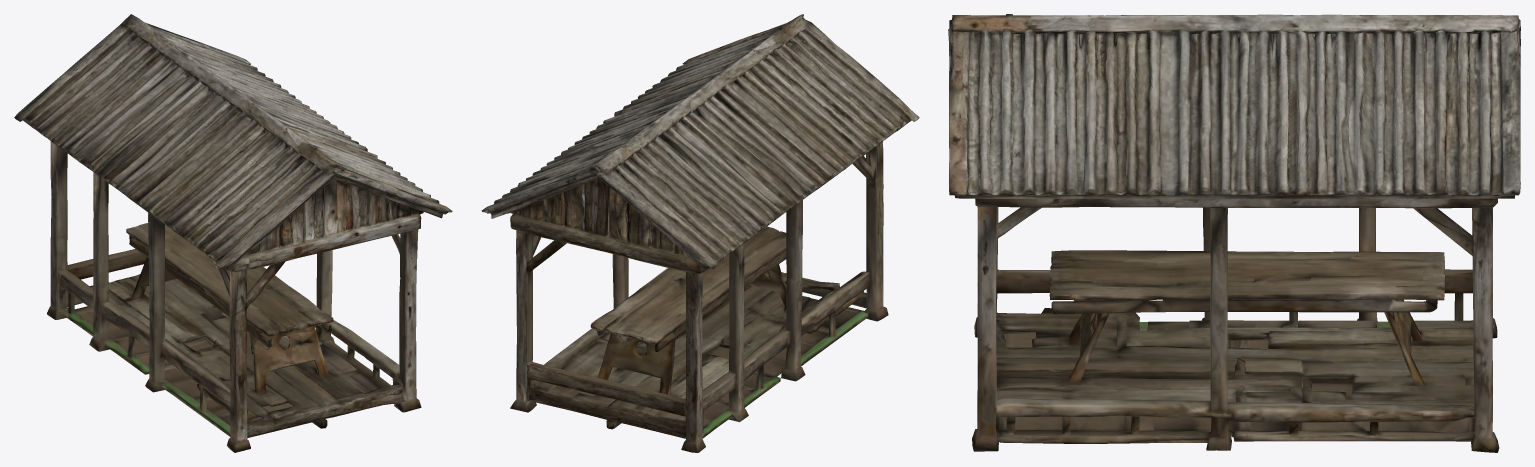
Rendered from packing-shed.glb.
3 renders of one model, left to right at view 1: azimuth 30°, elevation 25°; view 2: azimuth 150°, elevation 25°; view 3: azimuth 270°, elevation 25°, orthographic. The views are drawn at different scales.
Visible parts, largest first — view 1: tripo_node_f216664b-65b9-4bd1-a24f-18b6404412e8; view 2: tripo_node_f216664b-65b9-4bd1-a24f-18b6404412e8; view 3: tripo_node_f216664b-65b9-4bd1-a24f-18b6404412e8.
Part boxes in pixels (x1=…): tripo_node_f216664b-65b9-4bd1-a24f-18b6404412e8: x1=14, y1=14, x2=452, y2=452; tripo_node_f216664b-65b9-4bd1-a24f-18b6404412e8: x1=481, y1=14, x2=919, y2=452; tripo_node_f216664b-65b9-4bd1-a24f-18b6404412e8: x1=948, y1=14, x2=1520, y2=452.
Bounding box in the file's own units: 0.6309 × 0.7079 × 0.9791.
1 material, 1 textured.
